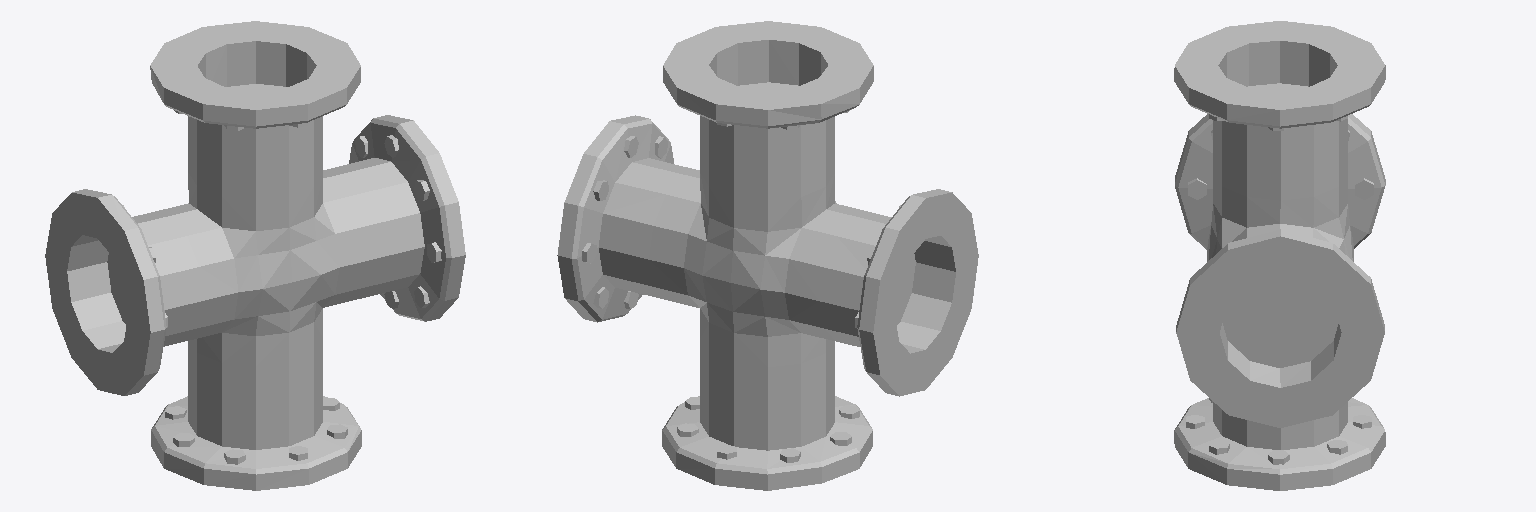
File: modular_industrial_pipes_01-07.obj
The picture shows the model from 3 angles: view 1: azimuth 30°, elevation 25°; view 2: azimuth 150°, elevation 25°; view 3: azimuth 270°, elevation 25°; orthographic projection.
Parts seen in each view (by area): view 1: modular_industrial_pipes_01_pipe07; view 2: modular_industrial_pipes_01_pipe07; view 3: modular_industrial_pipes_01_pipe07.
Part boxes in pixels (bbox=[...]): modular_industrial_pipes_01_pipe07: bbox=[45, 21, 465, 490]; modular_industrial_pipes_01_pipe07: bbox=[557, 21, 978, 490]; modular_industrial_pipes_01_pipe07: bbox=[1174, 21, 1385, 490].
Bounding box in the file's own units: 0.3568 × 0.4111 × 0.2064.